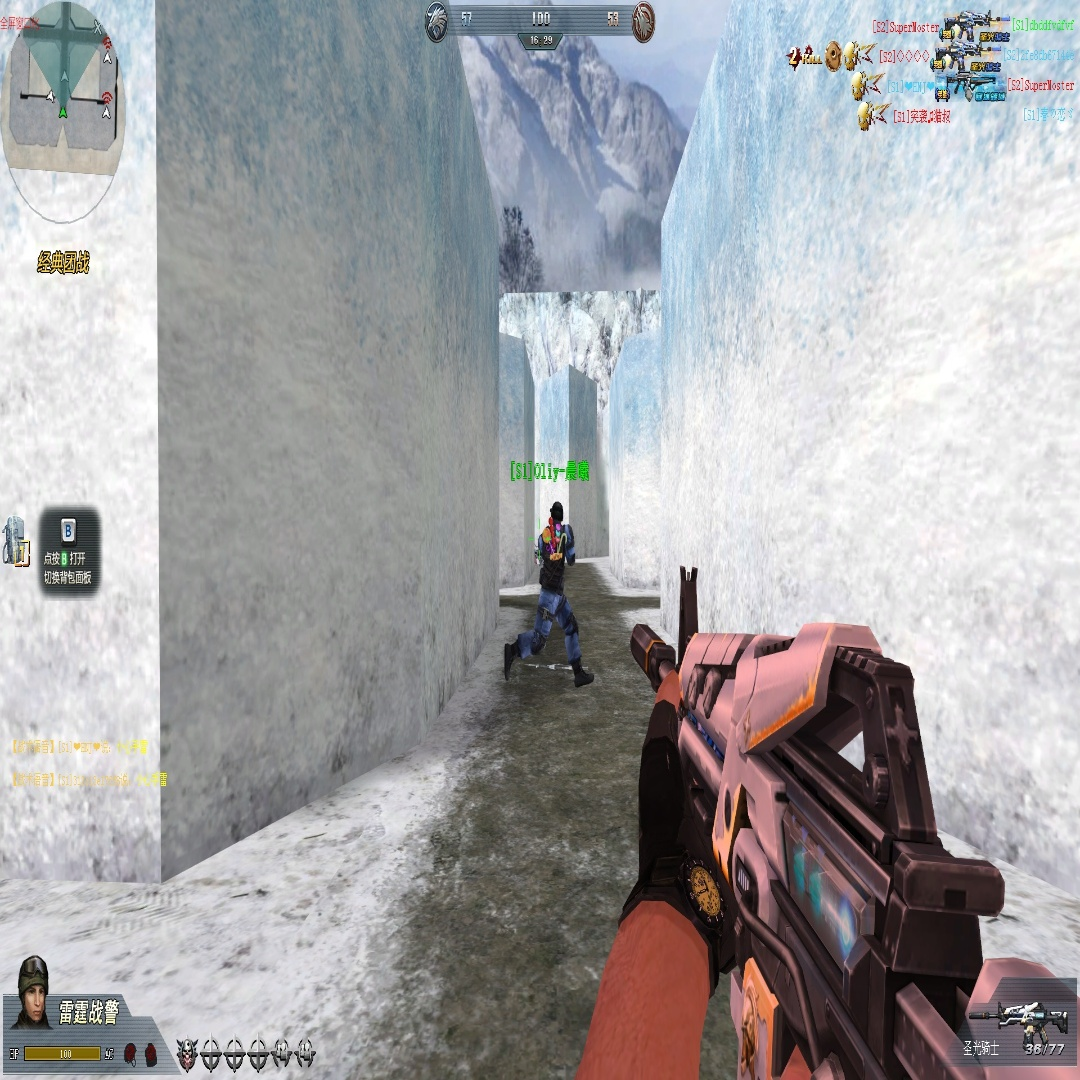ct: (504, 498, 592, 688)
head: (550, 501, 566, 525)
